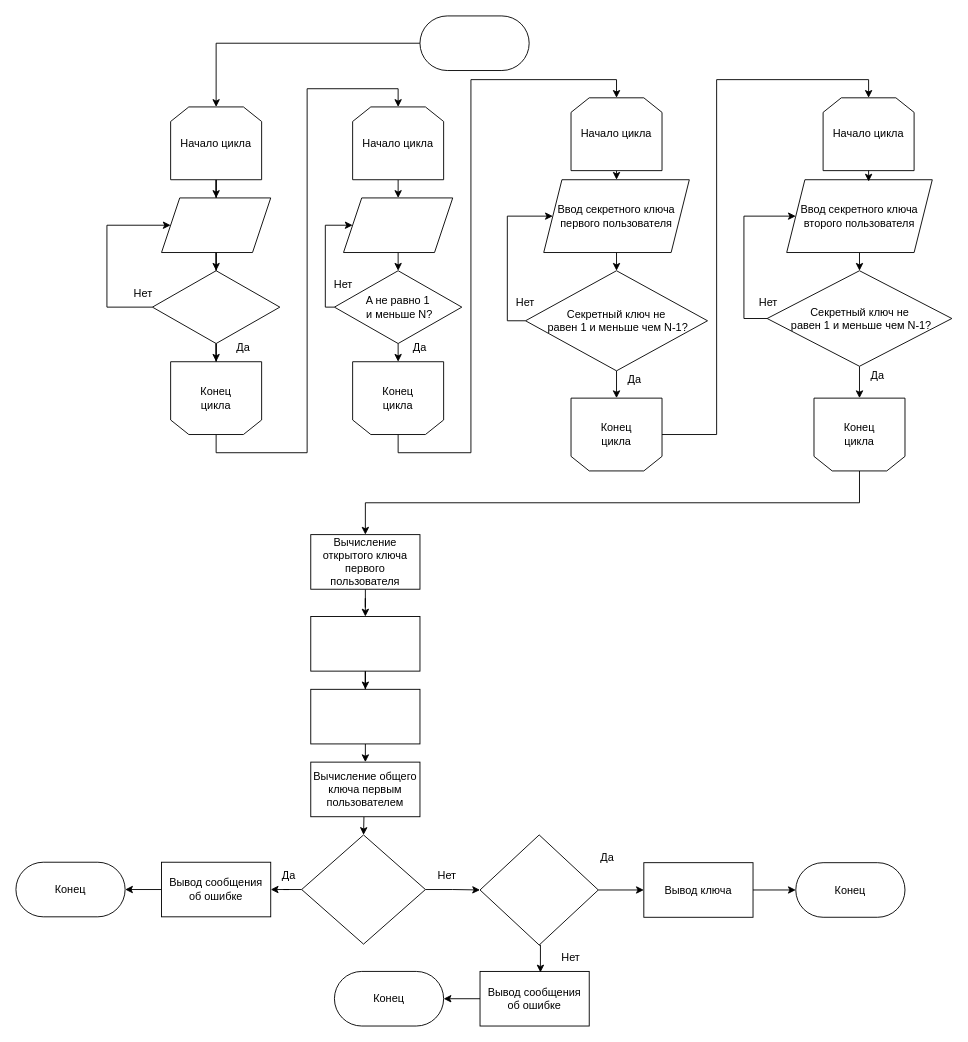
This 968x1042 diagram has some shape labels left out. Here are the shapes that lost their labels. From the top down, the box of each, then its label:
(419, 15, 529, 71): Начало
(161, 197, 271, 253): Ввод N
(343, 197, 453, 253): Ввод А
(152, 270, 280, 344): N простое и не равно 1?
(310, 616, 420, 671): Вычисление открытого ключа второго пользователя
(310, 688, 420, 744): Вычисление общего ключа вторым пользователем
(301, 834, 425, 944): Общий секретныйы ключ = 0 или 1 ?
(479, 834, 598, 945): Общий секрентый ключ совпадает?
